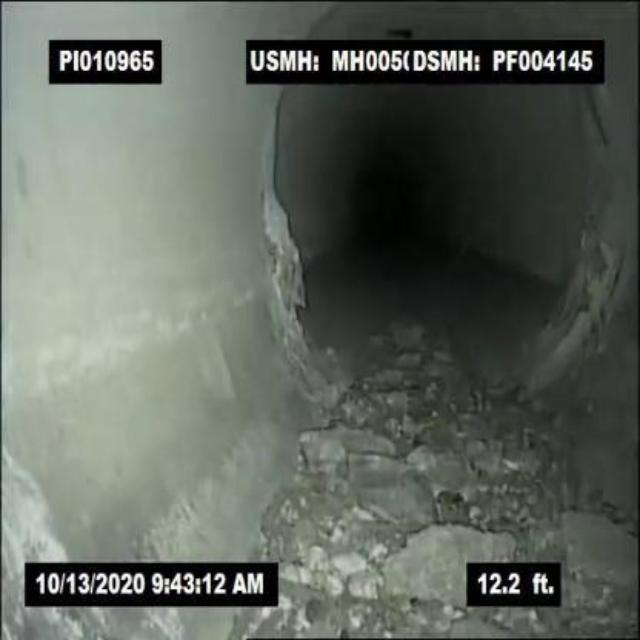Debris: (278, 375, 402, 517), (343, 522, 522, 611), (409, 378, 515, 522)
